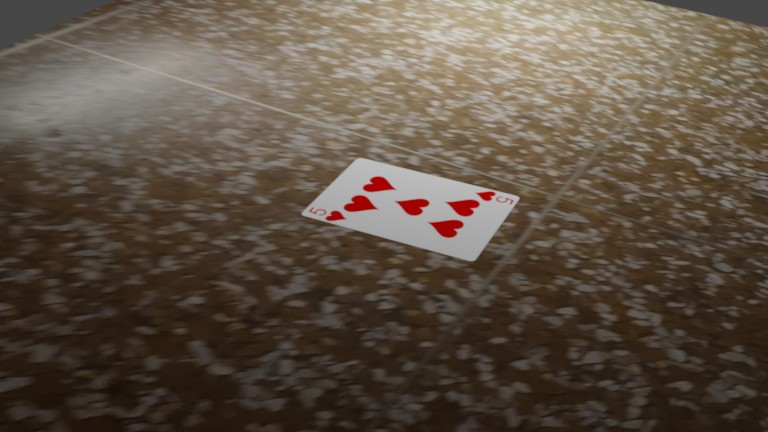5_of_hearts: (303, 204, 352, 226), (470, 187, 518, 208)
